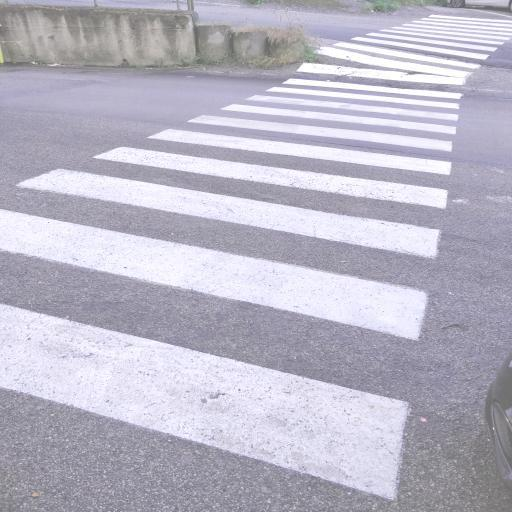crosswalk: (10, 133, 460, 264), (235, 84, 469, 124)
